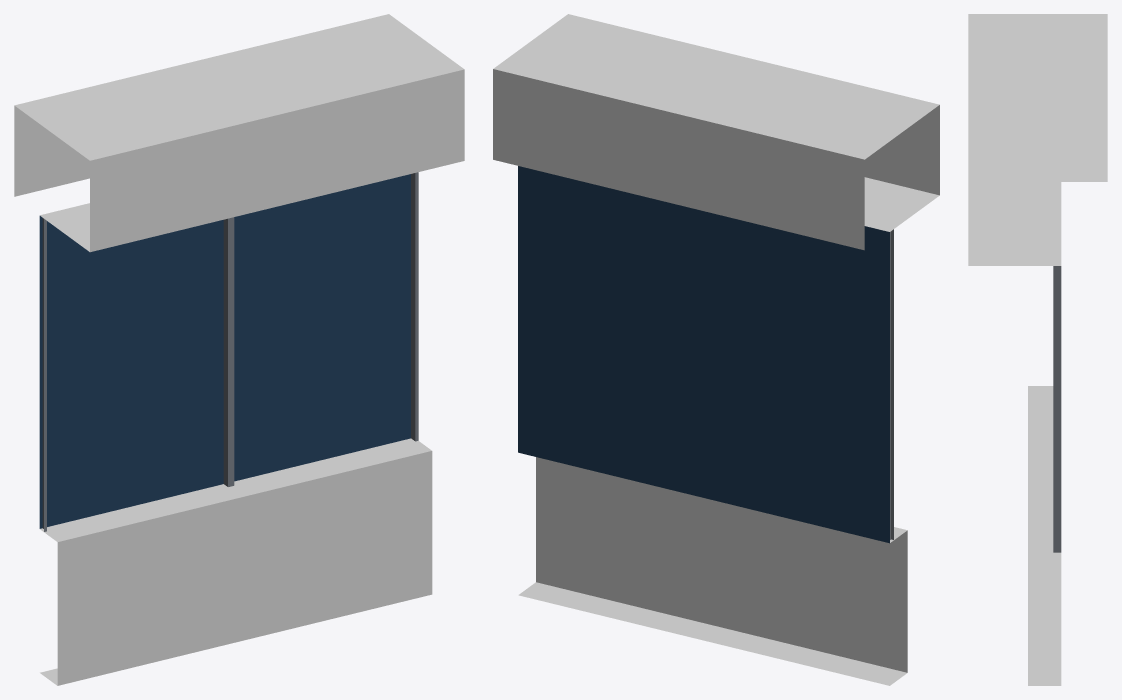
The model's file is top-w1.fbx.
3 views of the same model, side by side, from view 1: azimuth 30°, elevation 25°; view 2: azimuth 150°, elevation 25°; view 3: azimuth 270°, elevation 25° (orthographic). The views are drawn at different scales.
Visible parts, largest first — view 1: a2002/400/top-w1; view 2: a2002/400/top-w1; view 3: a2002/400/top-w1.
Boxes of the visible parts, x1,y1,x2,y2 form: a2002/400/top-w1: [14, 14, 464, 685]; a2002/400/top-w1: [493, 14, 939, 685]; a2002/400/top-w1: [968, 14, 1107, 685].
Size of the model in its own units: 3 by 4.2 by 1.05.
